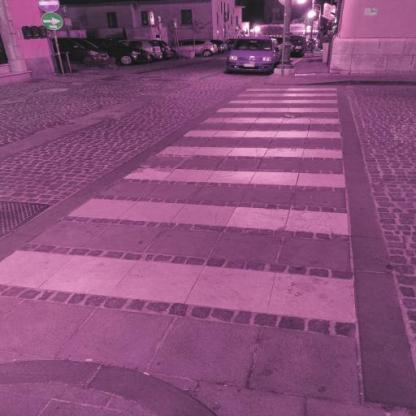crosswalk: (98, 142, 364, 194), (197, 103, 347, 128)
